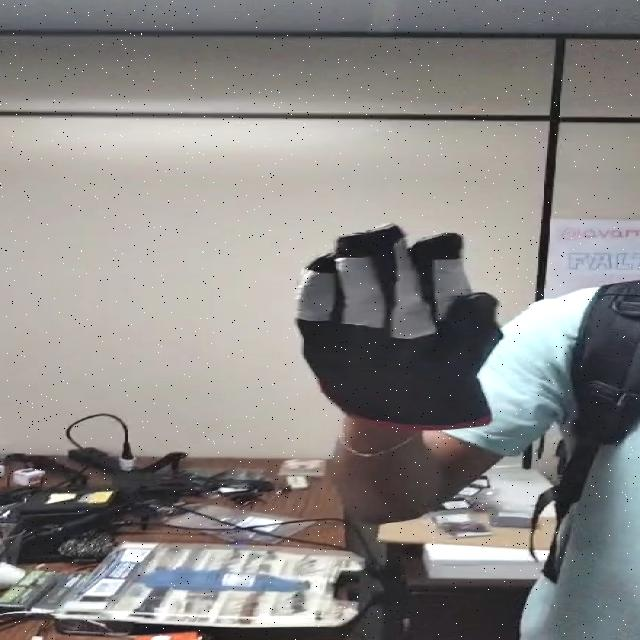Gloves: (284, 224, 521, 430)
